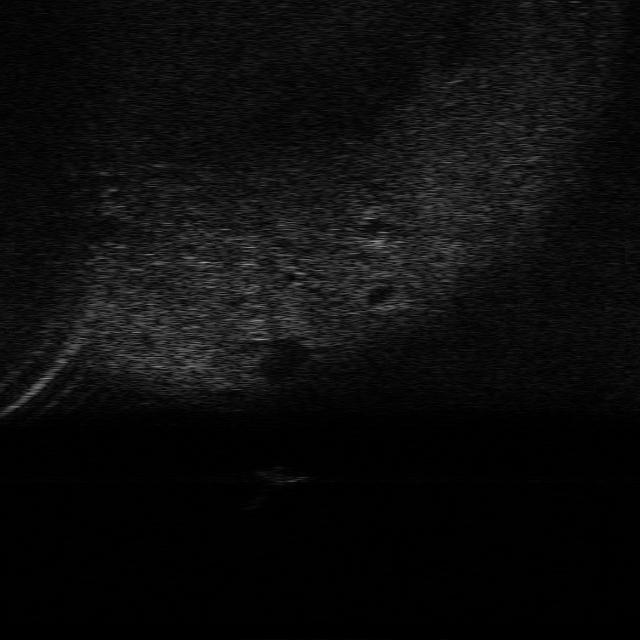cube: (254, 460, 305, 486)
